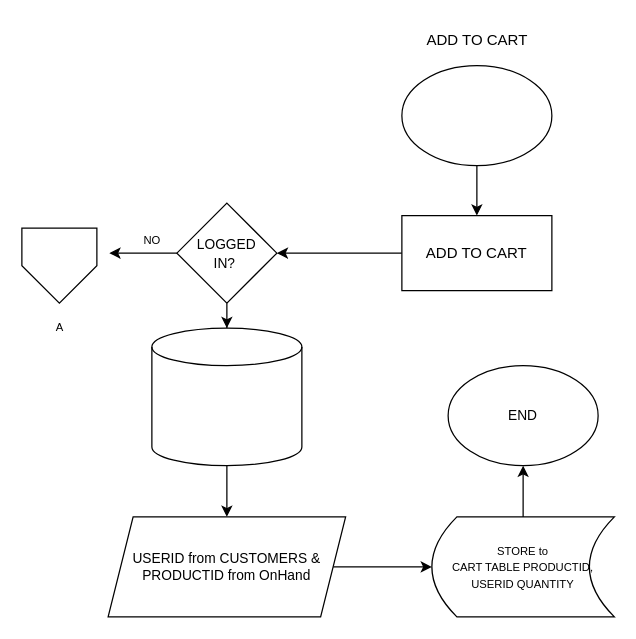
Some shapes in this 636 by 639 pixel diagram are drawn without their labels. Each missing label, with the box of its shape:
ASTEE_DATABASE: CUSTOMERS, TABLES: (151, 327, 302, 466)
START: (401, 64, 552, 166)
